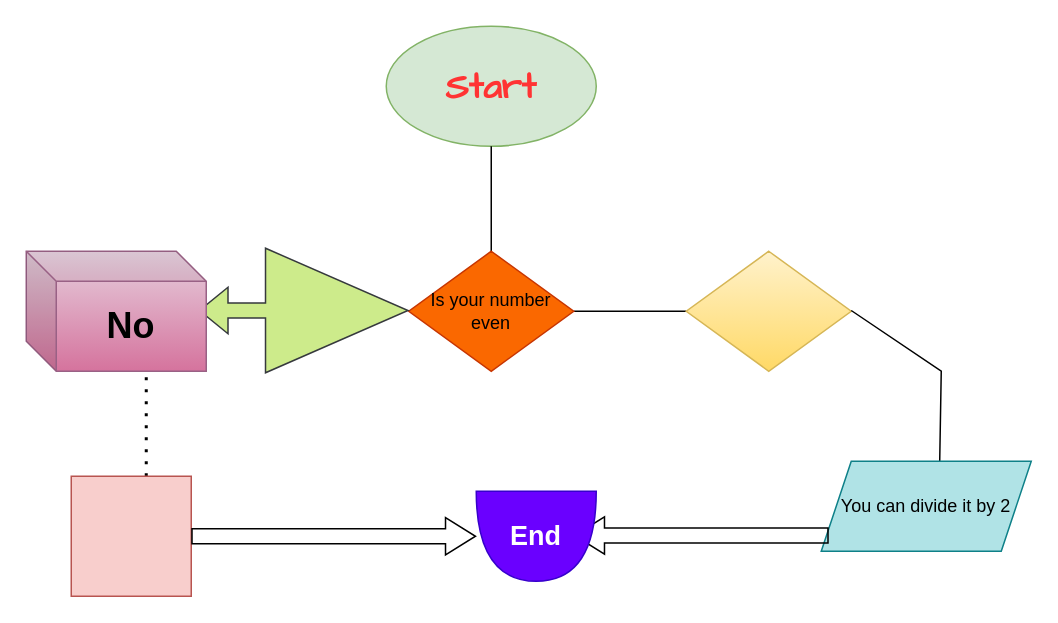
Image size: 1058x623. Some labels were removed from this diagram. The shapes that lost their labels are listed below. From the top down, each one's box as (x1, y1, x2, y2) in pixels, then its label:
(685, 250, 851, 371): yes
(70, 475, 191, 596): You can divide by 2 but there will be a remainder
